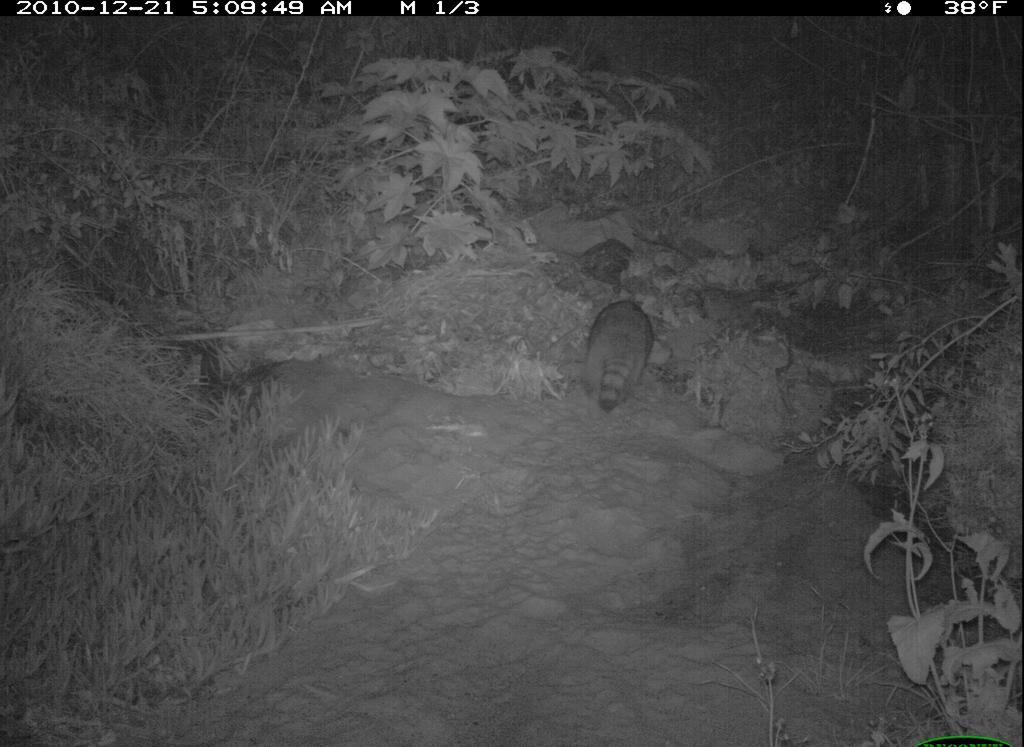raccoon: (577, 287, 662, 427)
